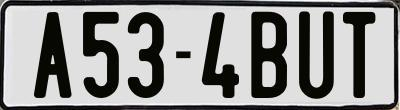3: (126, 11, 167, 99)
4: (202, 9, 244, 98)
5: (83, 11, 125, 101)
A: (34, 9, 76, 98)
B: (249, 11, 288, 97)
T: (342, 9, 380, 98)
U: (297, 10, 333, 104)
